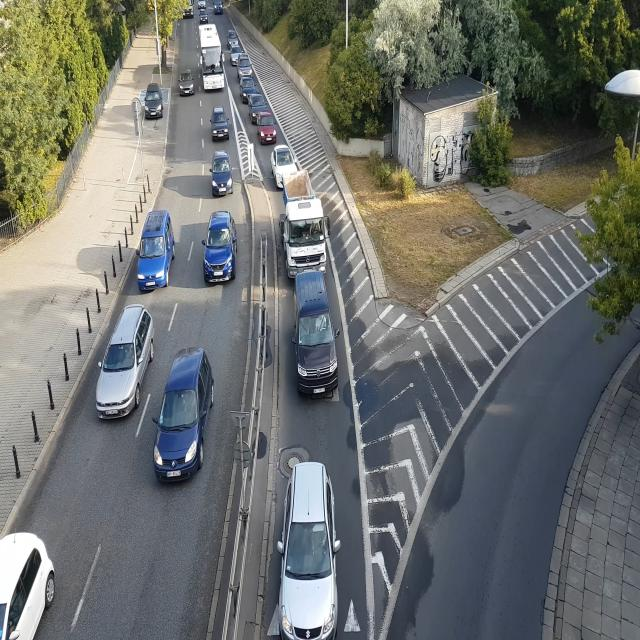bus: (198, 24, 225, 90)
car: (278, 463, 342, 640), (152, 344, 216, 485), (85, 305, 157, 424), (289, 272, 340, 404), (0, 527, 56, 640), (134, 210, 174, 290), (202, 212, 239, 282), (210, 147, 233, 196), (272, 144, 297, 182), (210, 102, 230, 143), (143, 85, 165, 120), (258, 112, 278, 148), (248, 93, 268, 123), (178, 66, 194, 100), (240, 76, 258, 102), (238, 54, 251, 80), (229, 44, 242, 63), (226, 26, 238, 46), (211, 0, 224, 14), (198, 10, 210, 25)
truck: (280, 170, 331, 268), (182, 0, 194, 19)
